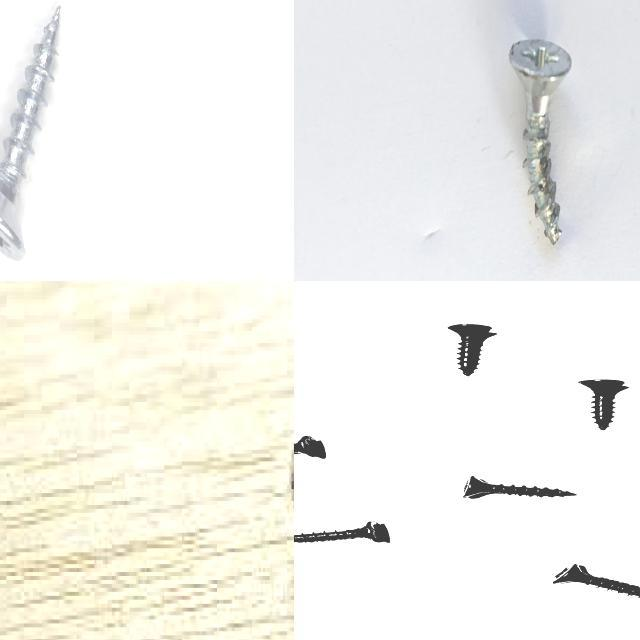Screw: (0, 5, 60, 260), (509, 39, 571, 244), (552, 565, 640, 598), (461, 476, 576, 499), (577, 379, 628, 430), (447, 323, 496, 376), (294, 521, 388, 543), (294, 436, 324, 459)
